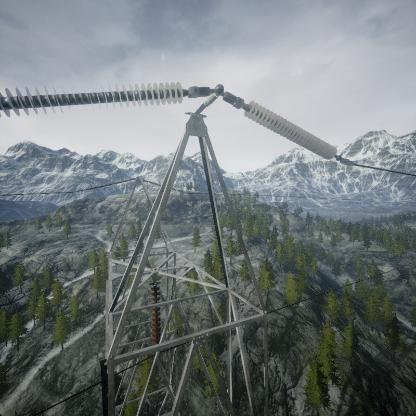insulator: (1, 81, 187, 116), (242, 94, 337, 161), (146, 279, 165, 344)
